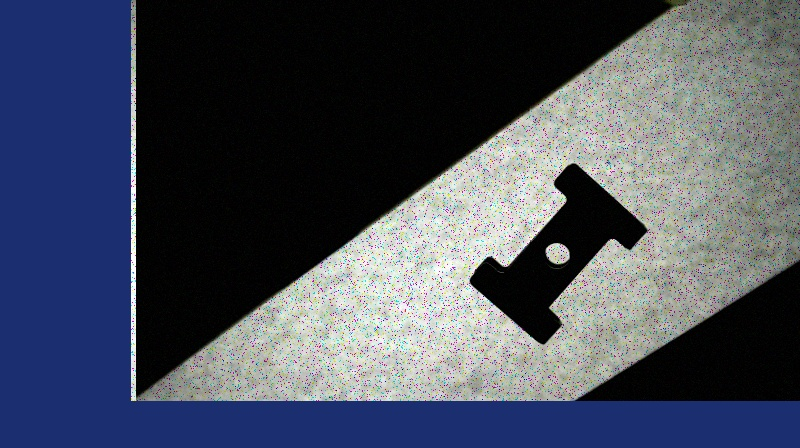O002: (466, 160, 651, 347)
